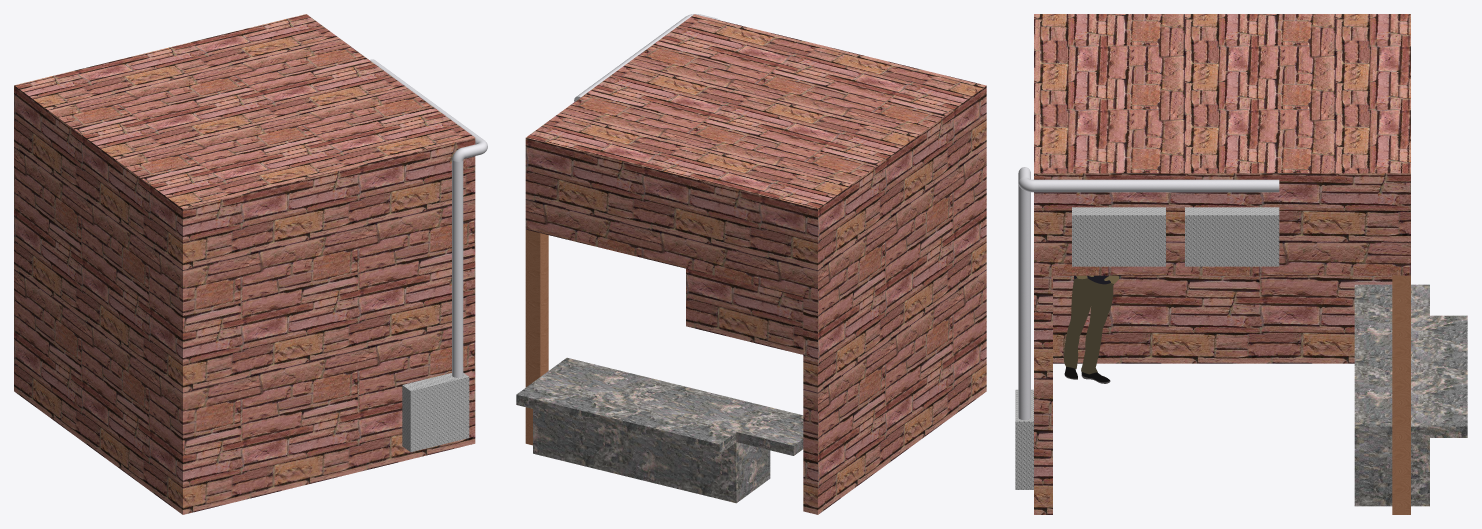
Rendered from hut.dae.
3 views of the same model, side by side, from view 1: azimuth 30°, elevation 25°; view 2: azimuth 150°, elevation 25°; view 3: azimuth 270°, elevation 25° (orthographic). The views are drawn at different scales.
Visible parts, largest first — view 1: group_0, group_6, group_7; view 2: group_0, group_2, group_1, group_3, group_7; view 3: group_0, group_2, group_7, group_5, group_4, group_1, Chris, group_3, group_6.
Part boxes in pixels (x1,y1,x2,y2): group_0: [14, 14, 475, 514]; group_6: [402, 373, 469, 452]; group_7: [370, 59, 487, 377]; group_0: [525, 14, 986, 514]; group_2: [516, 357, 770, 503]; group_1: [525, 229, 548, 445]; group_3: [736, 407, 803, 455]; group_7: [574, 14, 720, 101]; group_0: [1034, 14, 1410, 514]; group_2: [1354, 315, 1467, 506]; group_7: [1018, 167, 1279, 420]; group_5: [1185, 207, 1279, 266]; group_4: [1072, 207, 1165, 266]; group_1: [1392, 275, 1410, 514]; Chris: [1064, 278, 1113, 374]; group_3: [1354, 284, 1429, 315]; group_6: [1015, 389, 1033, 489].
Size of the model in its own units: 126 by 144 by 120.
Materials: 12 (6 with a texture image).
